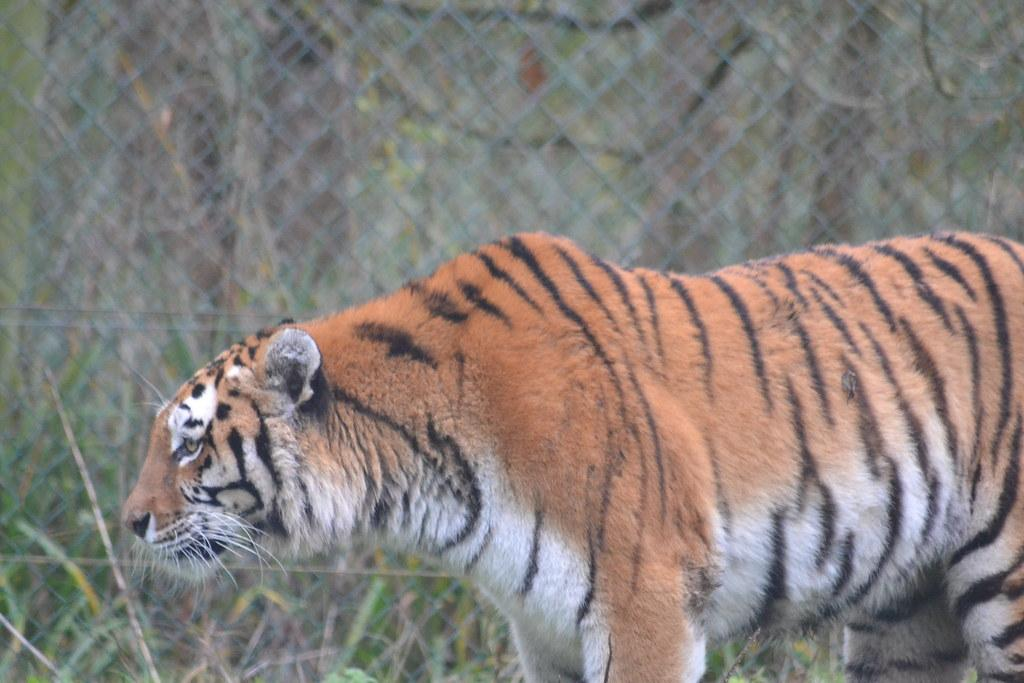tiger: (120, 227, 1023, 682)
